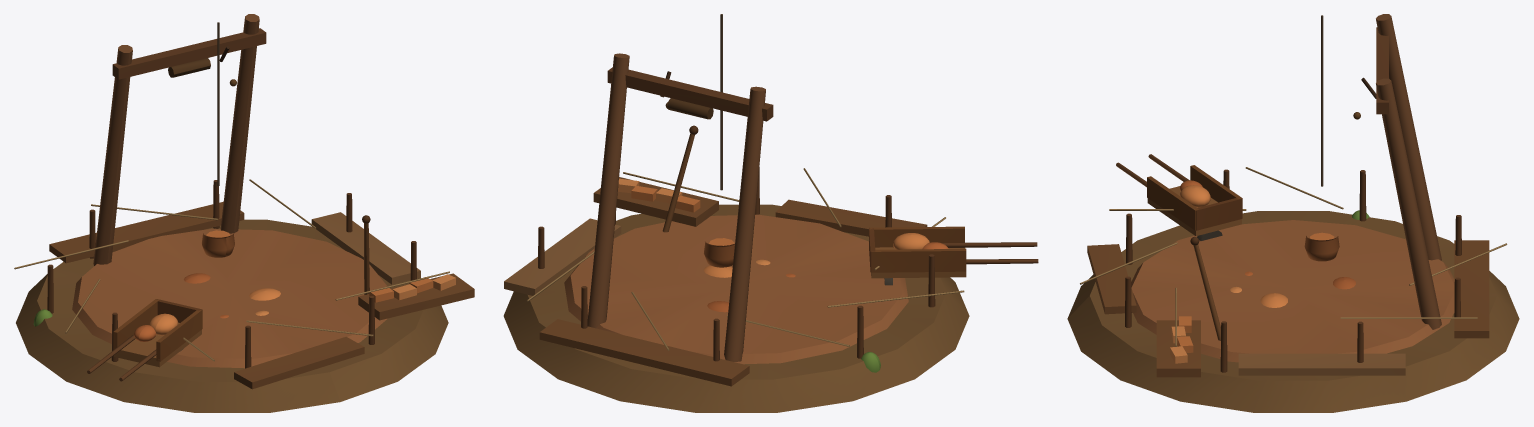
File: clay-pit.glb
3 renders of one model, left to right at view 1: azimuth 30°, elevation 25°; view 2: azimuth 150°, elevation 25°; view 3: azimuth 270°, elevation 25°, orthographic. The views are drawn at different scales.
Visible parts, largest first — view 1: clay-wall, earth-berm, hoist-post-a, hoist-post-b, boardwalk-0, boardwalk-2, boardwalk-1, hoist-beam, drying-bench, barrow-side-b, barrow-bed, barrow-side-a (+5 smaller); view 2: clay-wall, earth-berm, boardwalk-0, hoist-post-a, hoist-post-b, boardwalk-1, hoist-beam, boardwalk-2, barrow-side-a, drying-bench, barrow-side-b, hoist-bucket (+5 smaller); view 3: clay-wall, earth-berm, hoist-post-b, boardwalk-1, hoist-post-a, boardwalk-0, boardwalk-2, drying-bench, barrow-side-b, barrow-front, hoist-beam, barrow-side-a (+5 smaller).
Boxes of the visible parts, bbox=[...] form: clay-wall: bbox=[72, 228, 387, 368]; earth-berm: bbox=[16, 219, 448, 412]; hoist-post-a: bbox=[93, 45, 132, 265]; hoist-post-b: bbox=[220, 14, 259, 233]; boardwalk-0: bbox=[49, 201, 244, 263]; boardwalk-2: bbox=[234, 336, 364, 389]; boardwalk-1: bbox=[311, 212, 420, 284]; hoist-beam: bbox=[112, 28, 266, 79]; drying-bench: bbox=[358, 273, 474, 320]; barrow-side-b: bbox=[156, 309, 202, 361]; barrow-bed: bbox=[114, 322, 201, 367]; barrow-side-a: bbox=[113, 299, 158, 349]; clay-wall: bbox=[564, 214, 908, 364]; earth-berm: bbox=[503, 204, 969, 412]; boardwalk-0: bbox=[539, 319, 749, 386]; hoist-post-a: bbox=[724, 86, 765, 361]; hoist-post-b: bbox=[587, 53, 629, 328]; boardwalk-1: bbox=[504, 218, 621, 295]; hoist-beam: bbox=[607, 67, 773, 121]; boardwalk-2: bbox=[775, 199, 927, 236]; barrow-side-a: bbox=[871, 248, 966, 272]; drying-bench: bbox=[593, 177, 718, 226]; barrow-side-b: bbox=[870, 226, 964, 247]; hoist-bucket: bbox=[704, 241, 734, 267]; clay-wall: bbox=[1131, 220, 1454, 362]; earth-berm: bbox=[1067, 211, 1519, 412]; hoist-post-b: bbox=[1376, 78, 1441, 329]; boardwalk-1: bbox=[1238, 353, 1405, 375]; hoist-post-a: bbox=[1376, 14, 1441, 260]; boardwalk-0: bbox=[1454, 240, 1489, 338]; boardwalk-2: bbox=[1087, 244, 1136, 314]; drying-bench: bbox=[1156, 320, 1200, 377]; barrow-side-b: bbox=[1147, 176, 1198, 230]; barrow-front: bbox=[1196, 198, 1242, 230]; hoist-beam: bbox=[1376, 27, 1388, 114]; barrow-side-a: bbox=[1190, 165, 1242, 217].
Size of the model in its own units: 3.01 by 2.11 by 2.84.
